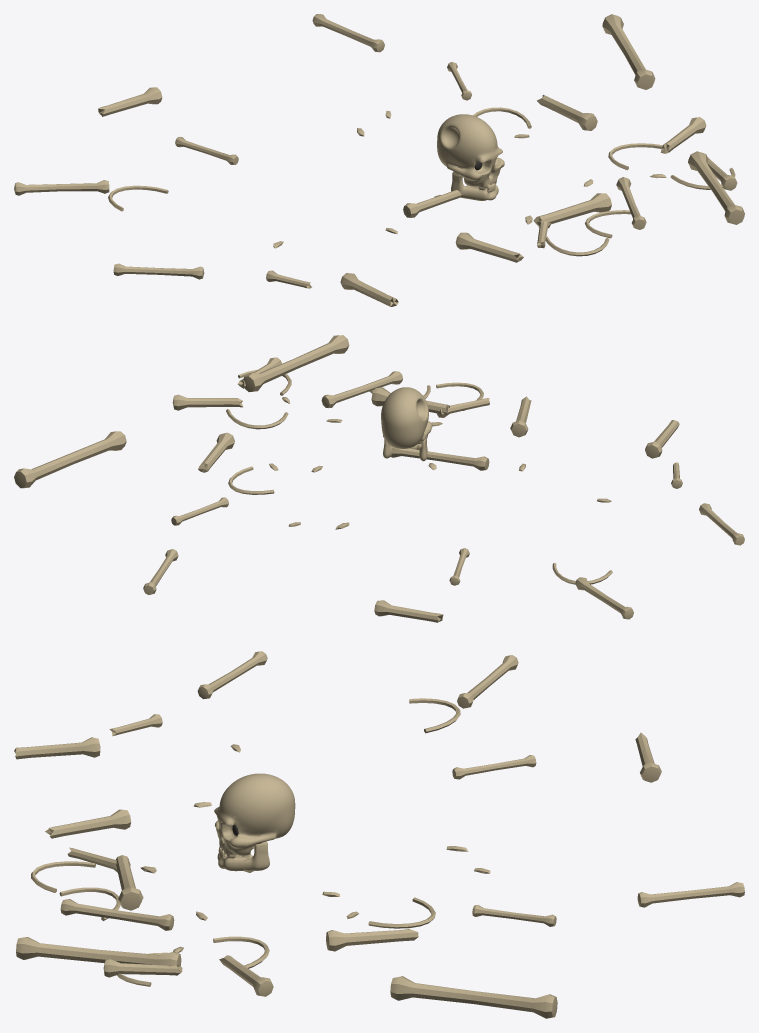
The model's file is knochenhaufen_kaputt.glb.
3 views of the same model, one above another, from view 1: azimuth 30°, elevation 25°; view 2: azimuth 150°, elevation 25°; view 3: azimuth 270°, elevation 25° (orthographic). The views are drawn at different scales.
Visible parts, largest first — view 1: knochenhaufen_kaputt; view 2: knochenhaufen_kaputt; view 3: knochenhaufen_kaputt.
Part boxes in pixels (bbox=[...]): knochenhaufen_kaputt: bbox=[14, 14, 744, 306]; knochenhaufen_kaputt: bbox=[14, 335, 744, 622]; knochenhaufen_kaputt: bbox=[14, 651, 744, 1018].
Size of the model in its own units: 2.08 by 0.2385 by 1.78.
